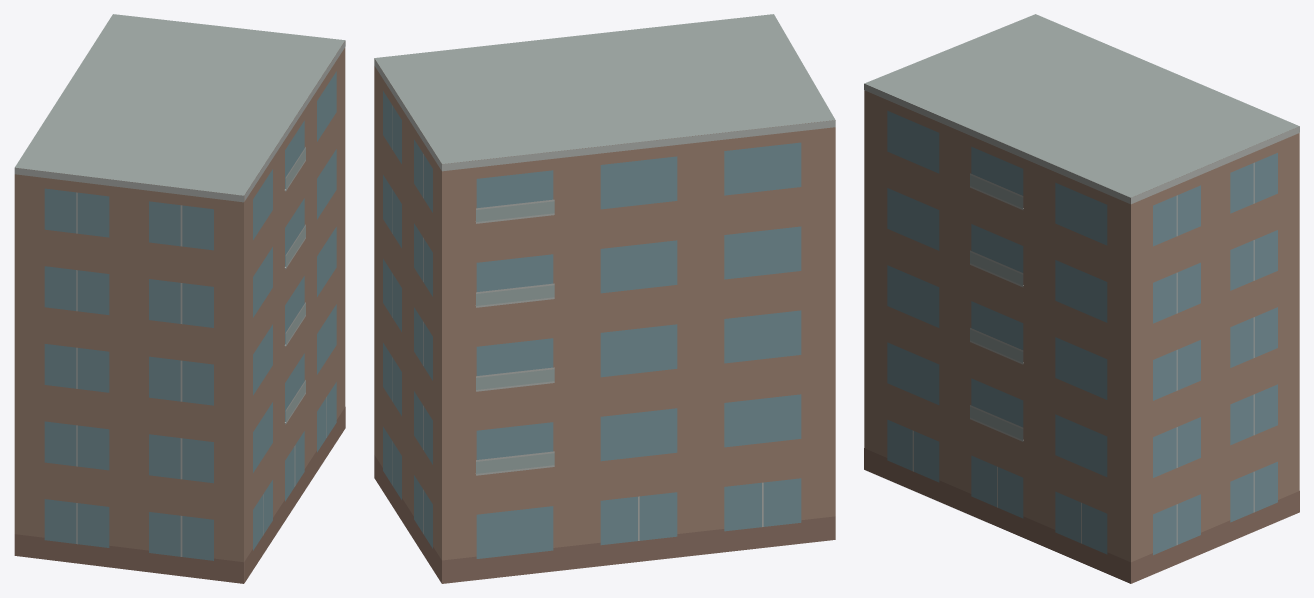
File: survey-upis-32882492.glb
3 views of the same model, side by side, from view 1: azimuth 30°, elevation 25°; view 2: azimuth 150°, elevation 25°; view 3: azimuth 270°, elevation 25° (orthographic). The views are drawn at different scales.
Parts seen in each view (by area): view 1: survey-upis-32882492.tmp; view 2: survey-upis-32882492.tmp; view 3: survey-upis-32882492.tmp.
Boxes of the visible parts, x1,y1,x2,y2 form: survey-upis-32882492.tmp: [14, 14, 345, 583]; survey-upis-32882492.tmp: [374, 14, 835, 583]; survey-upis-32882492.tmp: [864, 14, 1299, 583].
Size of the model in its own units: 14.61 by 14.3 by 14.63.
